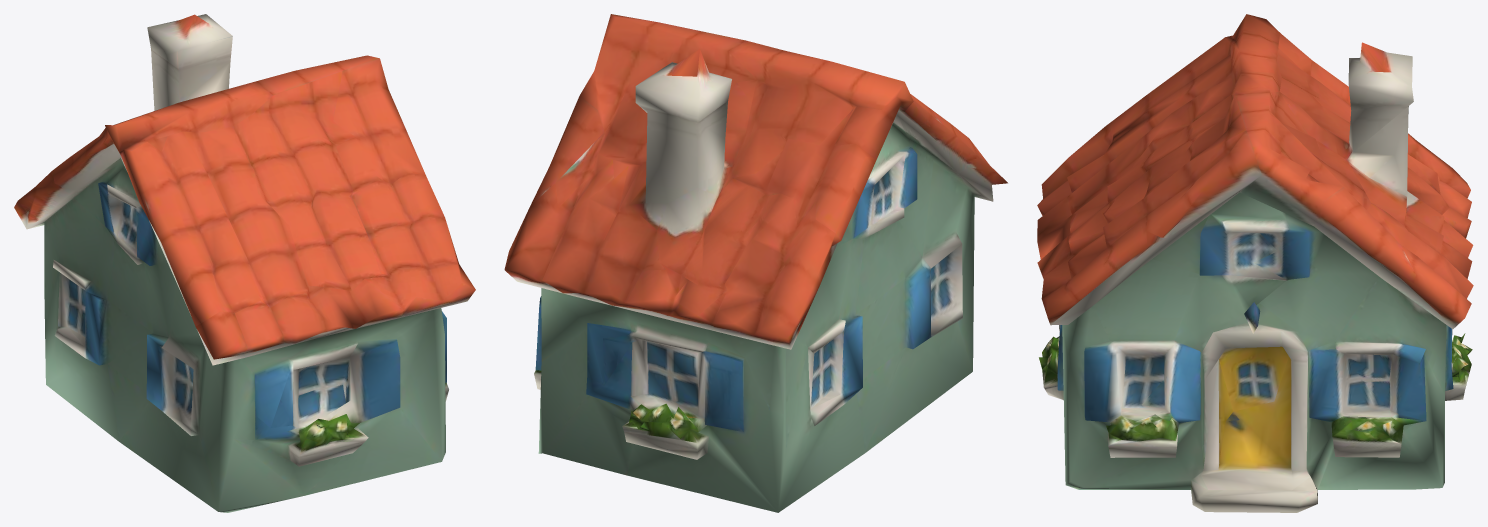
Rendered from house.glb.
3 views of the same model, side by side, from view 1: azimuth 30°, elevation 25°; view 2: azimuth 150°, elevation 25°; view 3: azimuth 270°, elevation 25° (orthographic). The views are drawn at different scales.
Parts seen in each view (by area): view 1: tripo_node_1758a85c-cb65-4242-9552-2fde2af8bbfb; view 2: tripo_node_1758a85c-cb65-4242-9552-2fde2af8bbfb; view 3: tripo_node_1758a85c-cb65-4242-9552-2fde2af8bbfb.
Boxes of the visible parts, x1=… form: tripo_node_1758a85c-cb65-4242-9552-2fde2af8bbfb: x1=14, y1=14, x2=475, y2=512; tripo_node_1758a85c-cb65-4242-9552-2fde2af8bbfb: x1=504, y1=14, x2=1007, y2=512; tripo_node_1758a85c-cb65-4242-9552-2fde2af8bbfb: x1=1037, y1=14, x2=1473, y2=512.
Size of the model in its own units: 0.7974 by 0.9945 by 1.
1 material, 1 textured.
